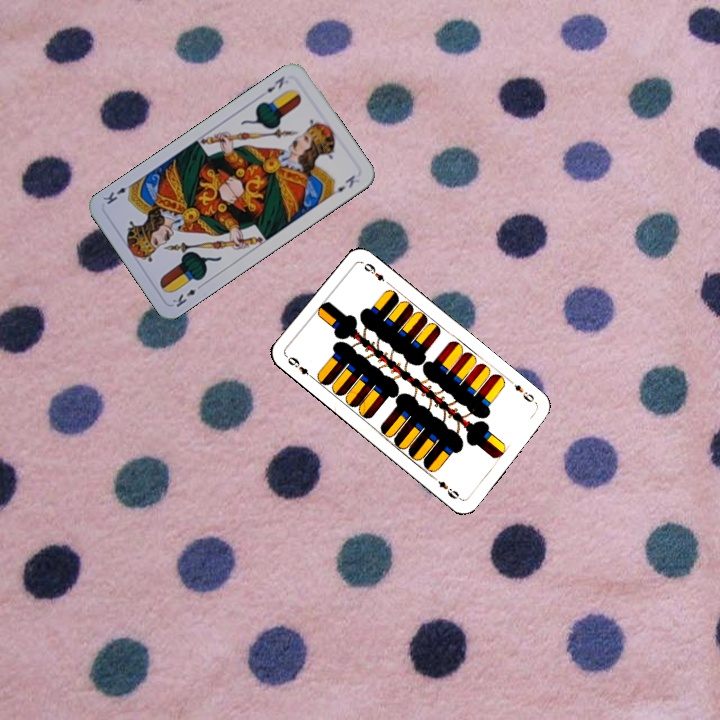E9: (506, 377, 540, 408), (282, 352, 317, 382)
EK: (168, 280, 206, 310), (262, 72, 287, 95)
